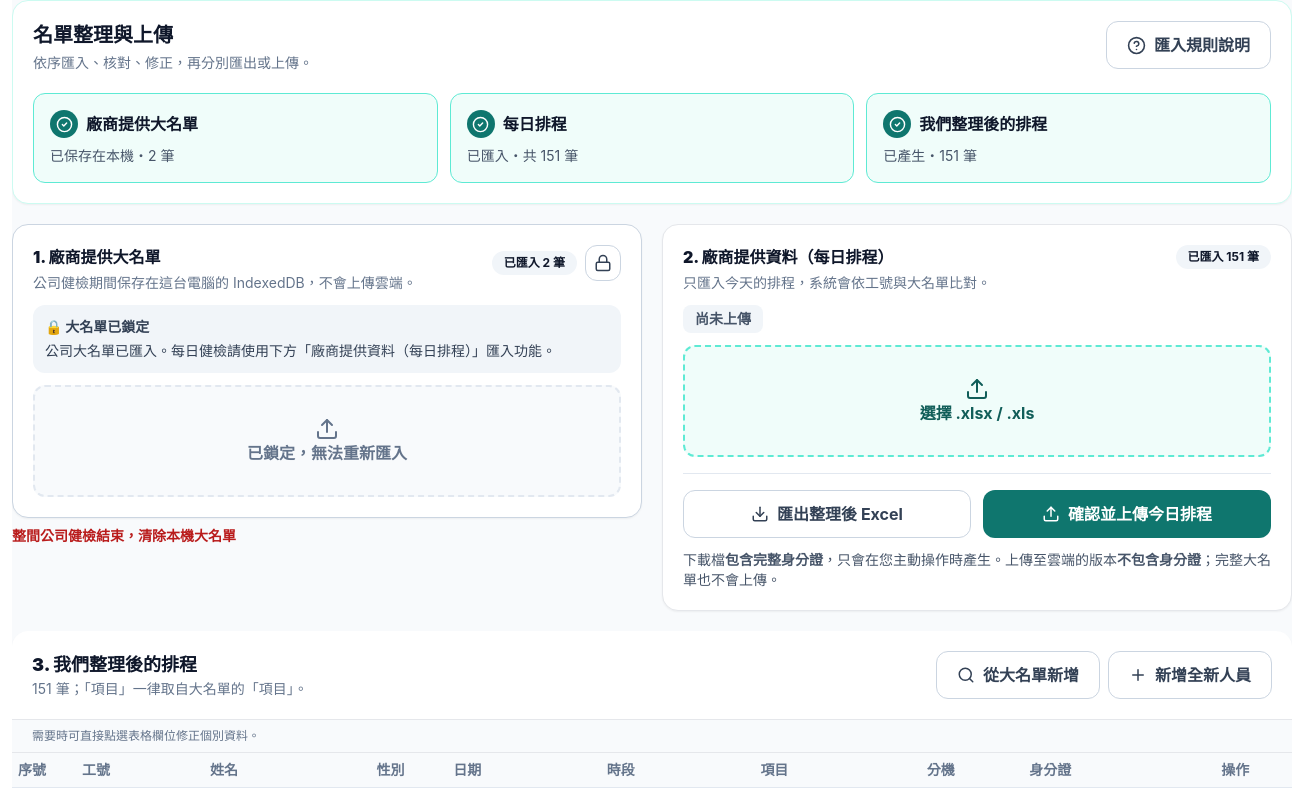
標準每日排程的持續上傳狀態 › 151 筆真正上傳成功後顯示綠色筆數與台灣時間，並保留可重新上傳的按鈕
Click the button "確認並上傳今日排程".
click(1127, 514)  # box top-left (983, 490), bottom-right (1271, 538)
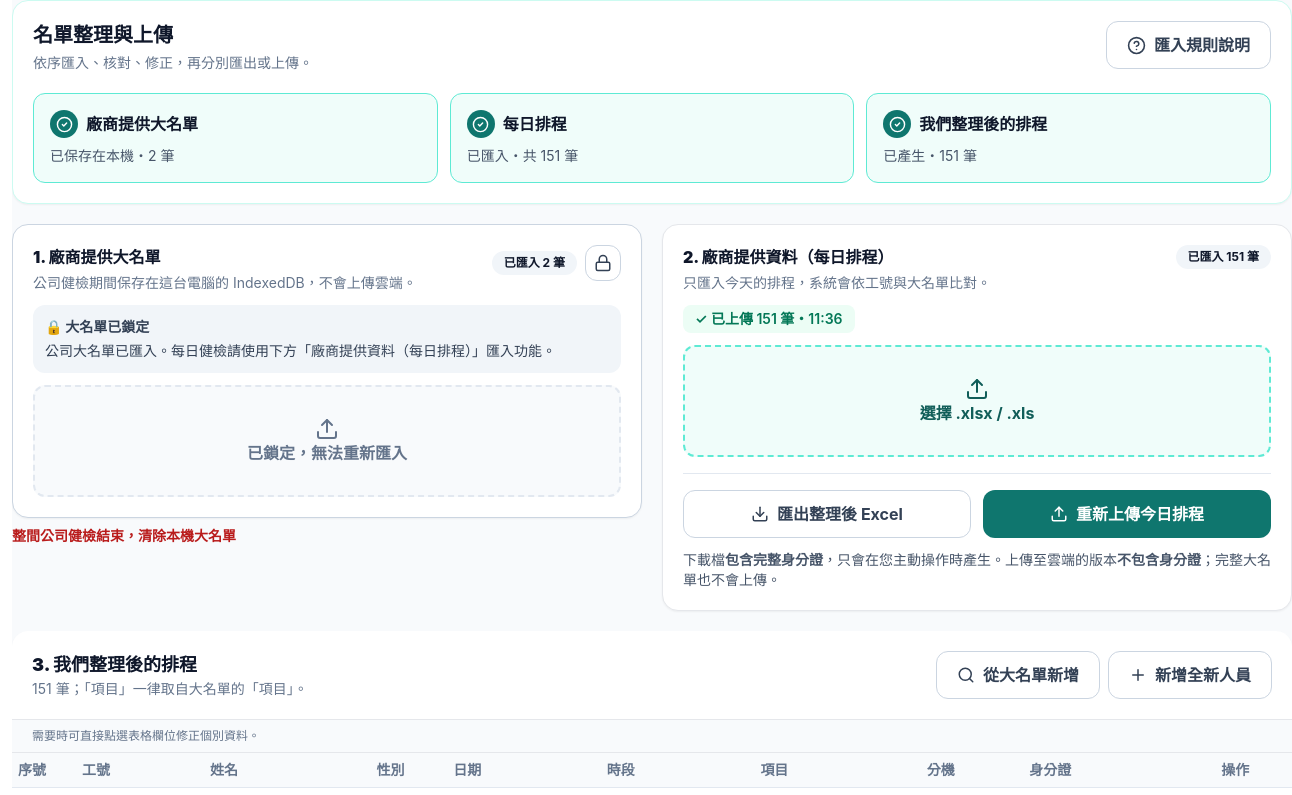
Check: the message "✓ 已上傳 151 筆・11:36" is shown, box top-left (683, 305), bottom-right (854, 333)
